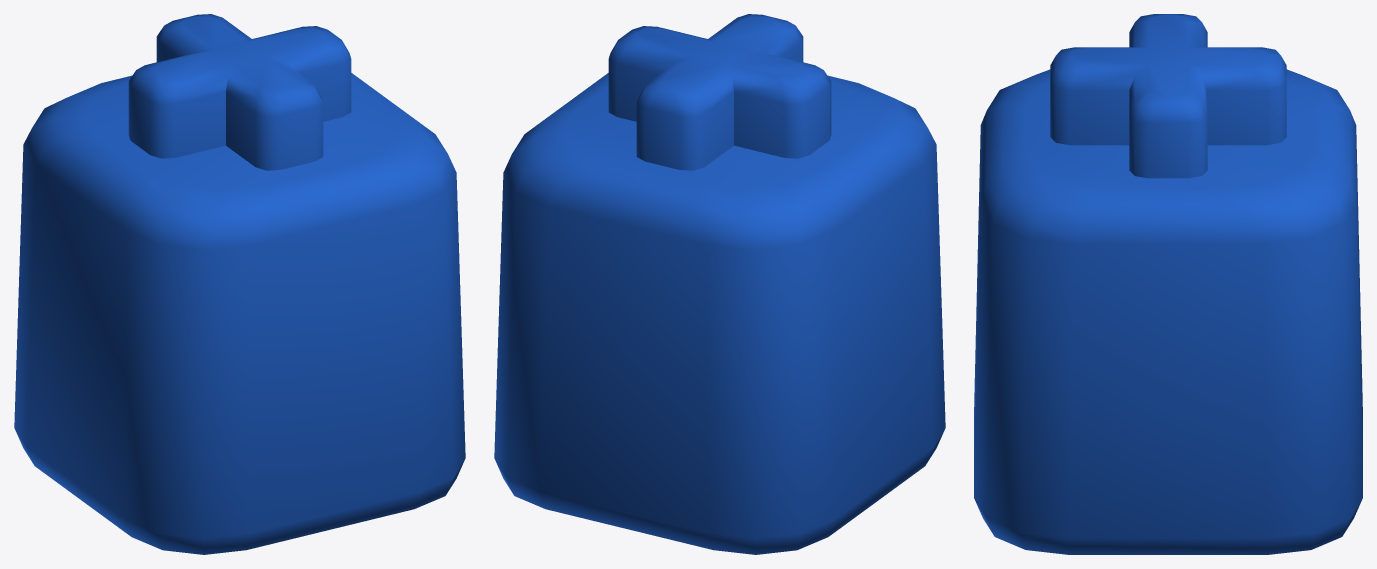
File: block_plus.fbx
3 views of the same model, side by side, from view 1: azimuth 30°, elevation 25°; view 2: azimuth 150°, elevation 25°; view 3: azimuth 270°, elevation 25° (orthographic). The views are drawn at different scales.
Visible parts, largest first — view 1: block_plus; view 2: block_plus; view 3: block_plus.
Part boxes in pixels (bbox=[...]): block_plus: bbox=[14, 14, 465, 554]; block_plus: bbox=[494, 14, 945, 554]; block_plus: bbox=[974, 14, 1362, 554].
Bounding box in the file's own units: 98.38 × 98.38 × 120.
